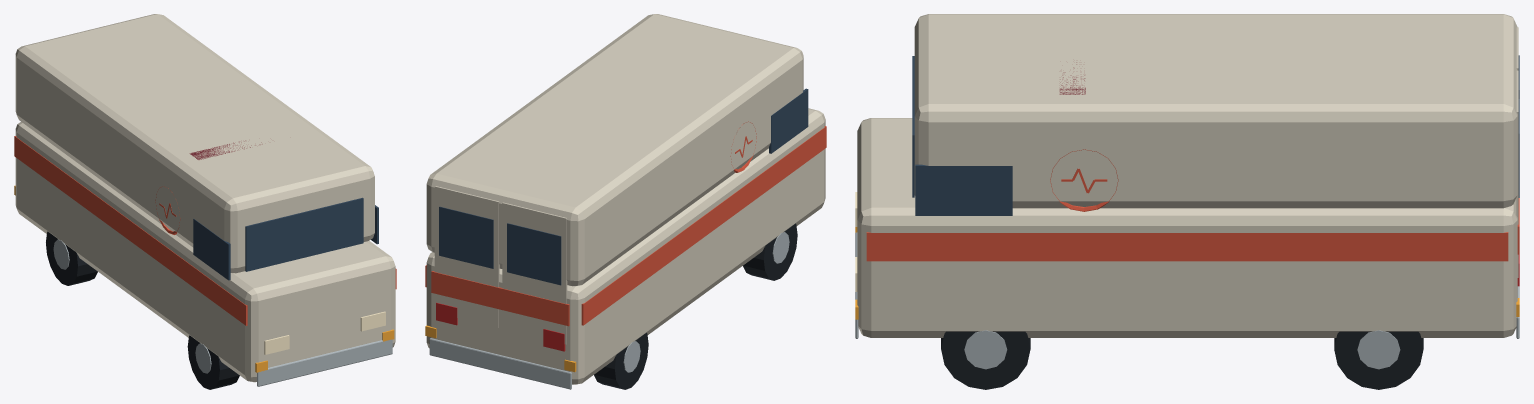
File: npc_ambulance.glb
3 views of the same model, side by side, from view 1: azimuth 30°, elevation 25°; view 2: azimuth 150°, elevation 25°; view 3: azimuth 270°, elevation 25° (orthographic). The views are drawn at different scales.
Visible parts, largest first — view 1: high_roof, lower_shell, windshield, rescue_stripe_R, front_bumper, cab_window_R, wheel_F_R_tire, wheel_R_R_tire, headlight_L, headlight_R, wheel_F_R_hub, wheel_R_R_hub (+1 smaller); view 2: high_roof, lower_shell, rescue_stripe_R, rear_door_R, rear_door_L, rear_stripe, rear_window_L, rear_window_R, rear_bumper, cab_window_R, wheel_R_R_tire, wheel_F_R_tire (+4 smaller); view 3: high_roof, lower_shell, rescue_stripe_L, cab_window_L, wheel_F_L_tire, wheel_R_L_tire, wheel_F_L_hub, wheel_R_L_hub.
Boxes of the visible parts, x1,y1,x2,y2 form: high_roof: (15,14,374,273); lower_shell: (15,122,395,382); windshield: (245,197,363,271); rescue_stripe_R: (14,136,247,325); front_bumper: (257,339,392,386); cab_window_R: (193,218,230,280); wheel_F_R_tire: (187,335,239,389); wheel_R_R_tire: (46,231,97,285); headlight_L: (360,311,385,331); headlight_R: (264,335,289,354); wheel_F_R_hub: (195,343,211,373); wheel_R_R_hub: (53,239,69,269); high_roof: (426,14,803,286); lower_shell: (426,108,825,384); rescue_stripe_R: (581,126,826,325); rear_door_R: (502,202,567,344); rear_door_L: (434,186,499,327); rear_stripe: (431,271,569,326); rear_window_L: (439,206,493,268); rear_window_R: (507,223,561,285); rear_bumper: (429,338,571,389); cab_window_R: (769,88,808,153); wheel_R_R_tire: (594,332,648,389); wheel_F_R_tire: (743,223,797,280); high_roof: (914,14,1517,208); lower_shell: (857,118,1517,337); rescue_stripe_L: (866,232,1508,261); cab_window_L: (915,164,1012,215); wheel_F_L_tire: (941,331,1030,389); wheel_R_L_tire: (1334,331,1423,389); wheel_F_L_hub: (964,330,1007,369); wheel_R_L_hub: (1357,330,1400,369).
Size of the model in its own units: 2.1 by 2.7 by 5.8.
